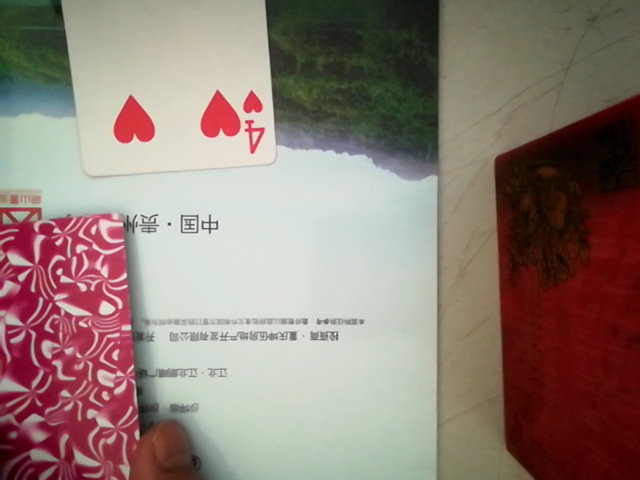hx 4: (51, 0, 282, 178)
